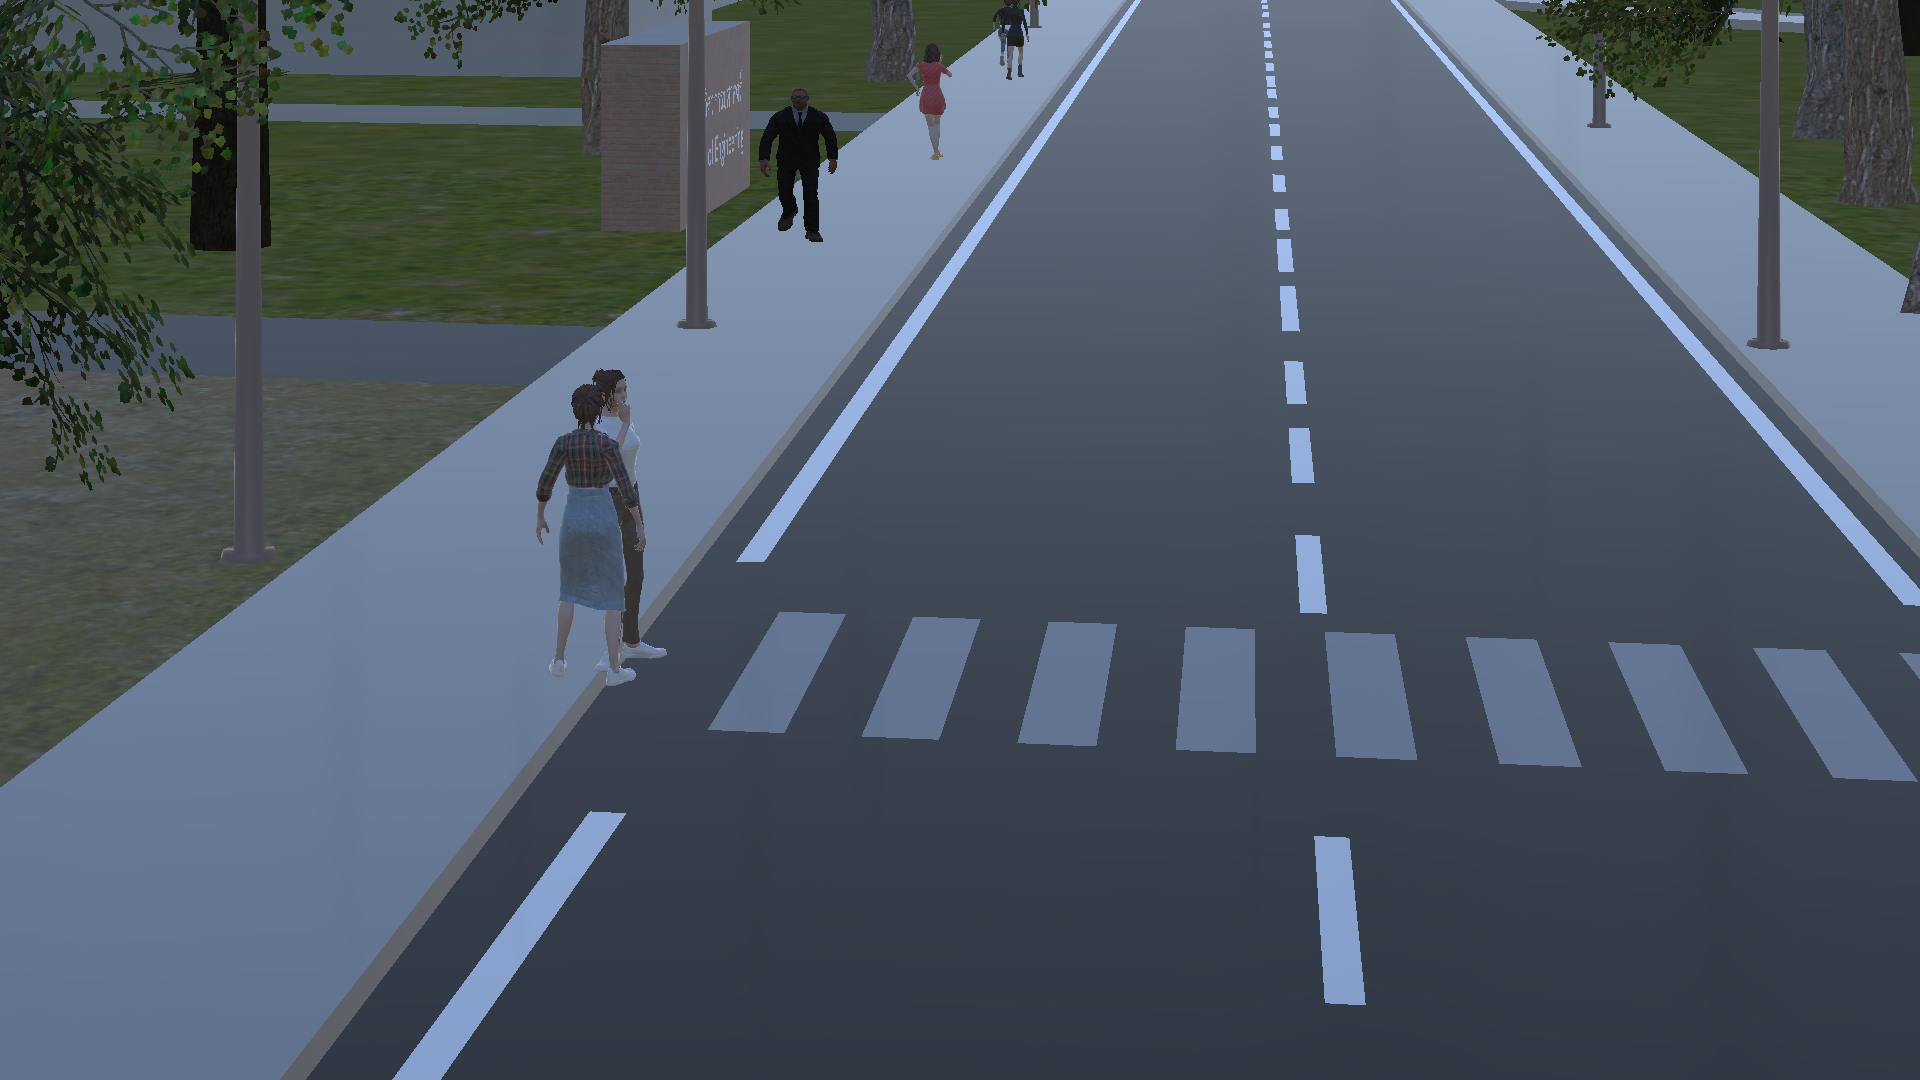pedestrian: (536, 384, 639, 691), (593, 334, 688, 664), (764, 81, 846, 260), (906, 41, 957, 168)
